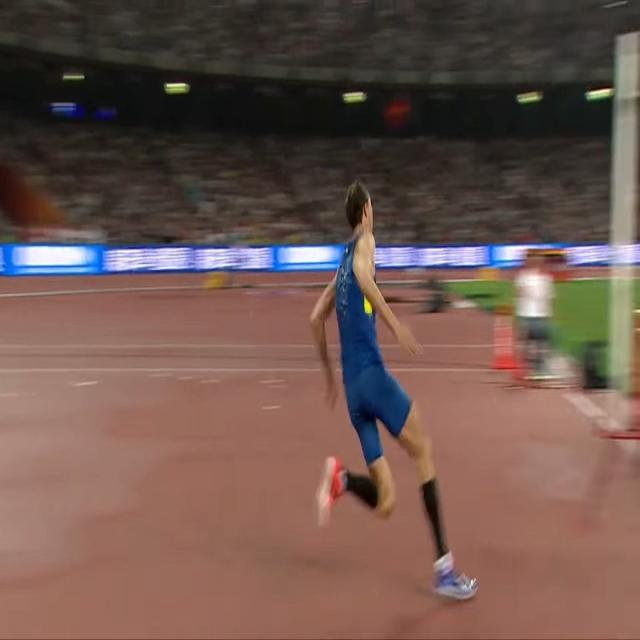run: (309, 175, 479, 602)
